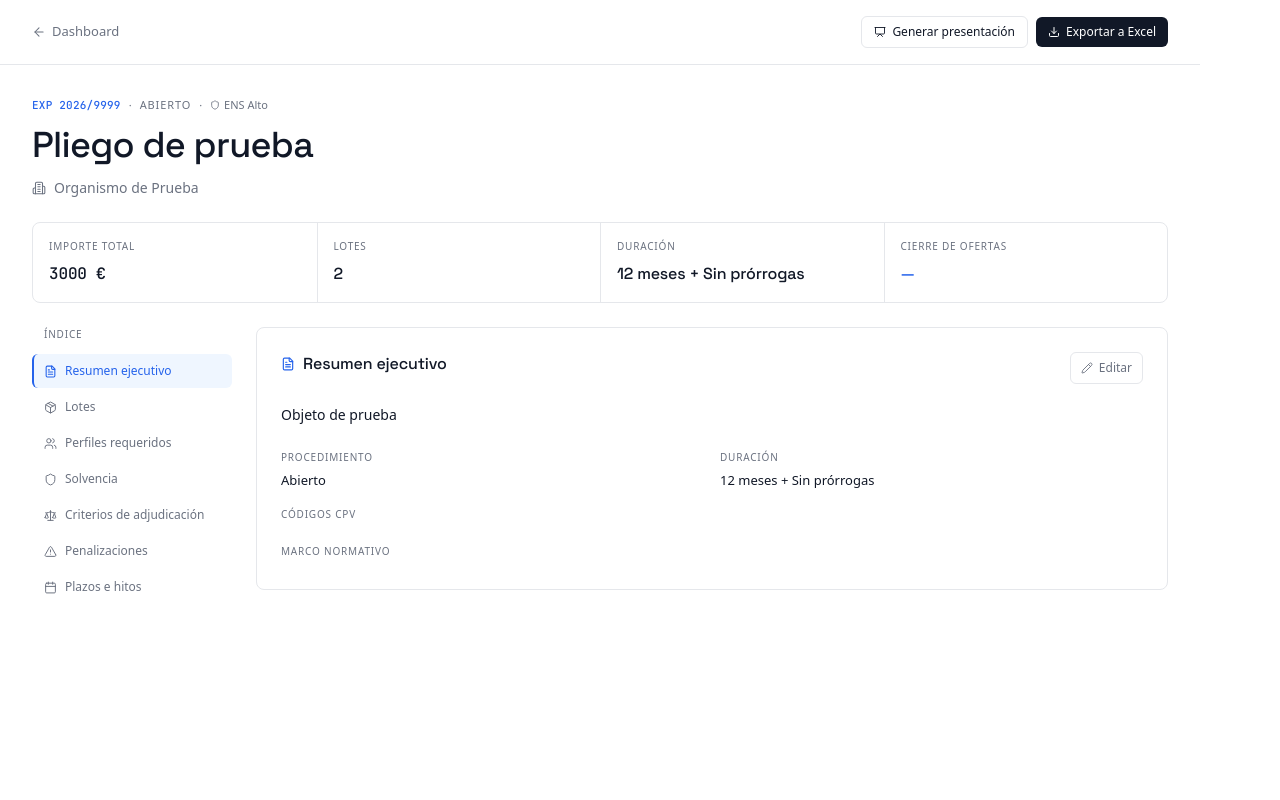
Scenario: Analysis - edición del importe total del pliego (sección Lotes) › si el guardado falla, mantiene el modo edición y muestra el error (no pierde los cambios en silencio)
Click the button "Lotes" at {"x": 132, "y": 407}, box [32,390,232,424]
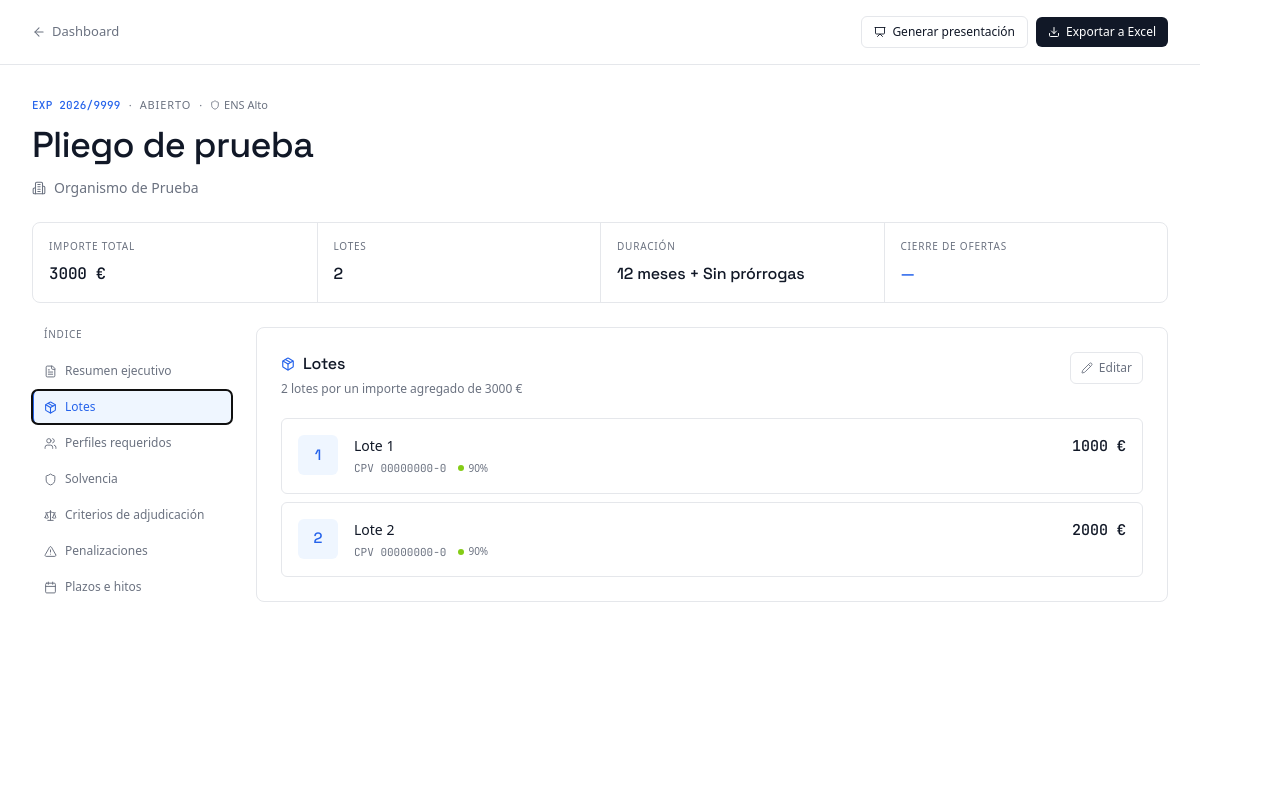
Click the button "Editar" at {"x": 1106, "y": 368}, box [1070,352,1143,384]
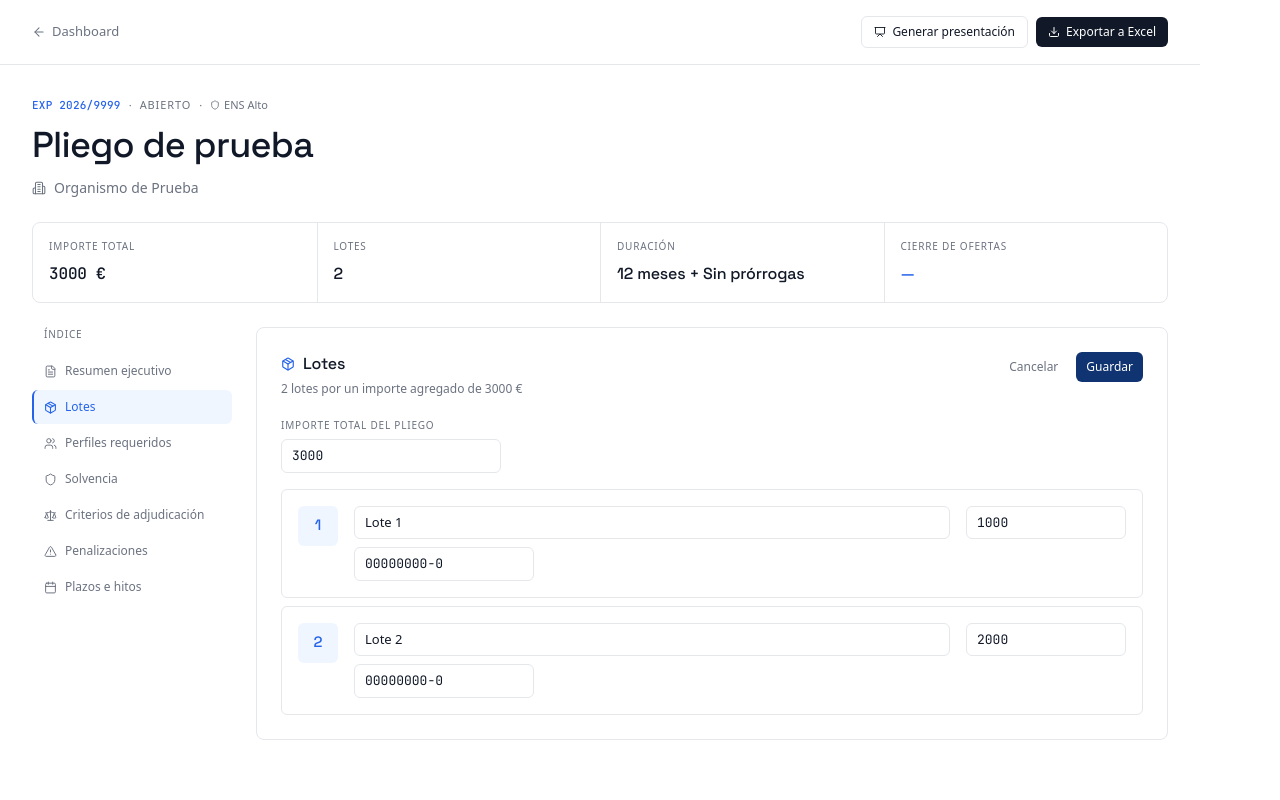
Replace the text in the 1st field showing "Lote 1" with "Lote editado" at {"x": 652, "y": 522}, box [354,506,950,539]
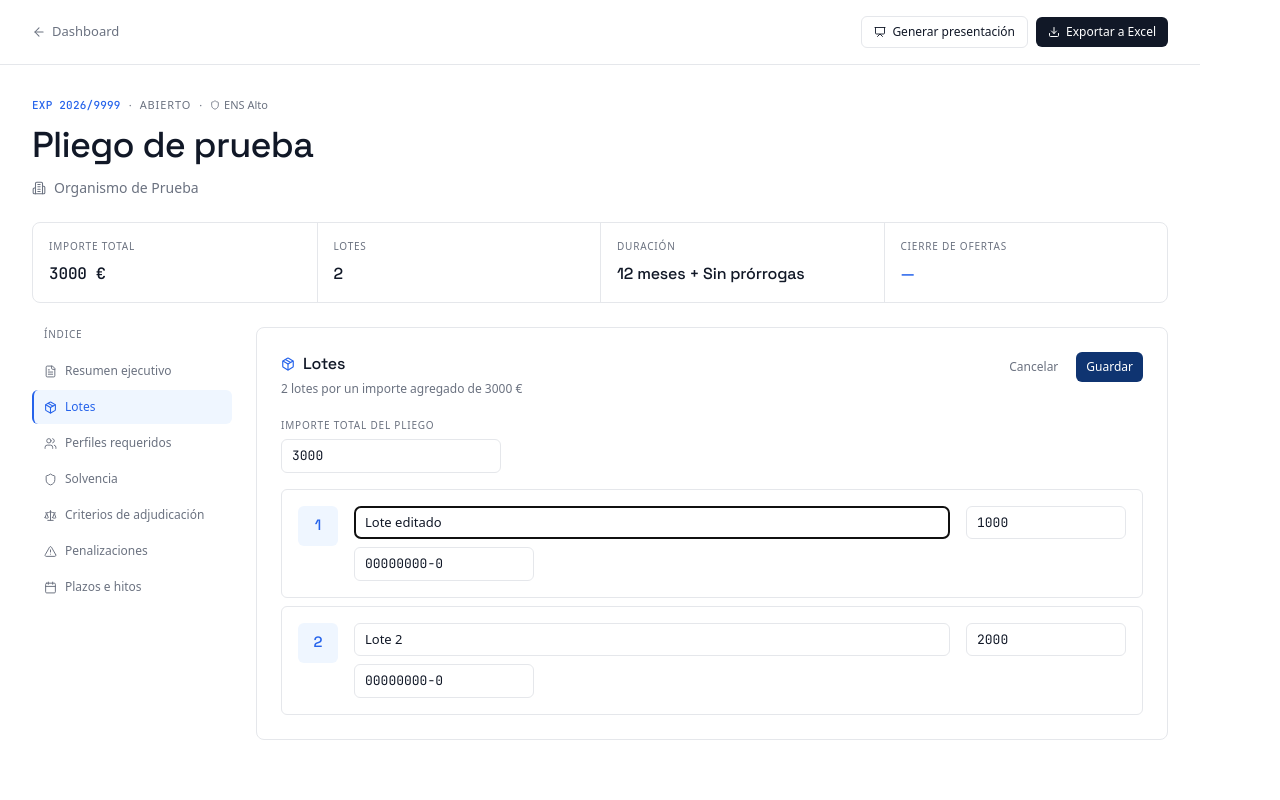
Click the button "Guardar" at {"x": 1110, "y": 367}, box [1076,352,1143,382]
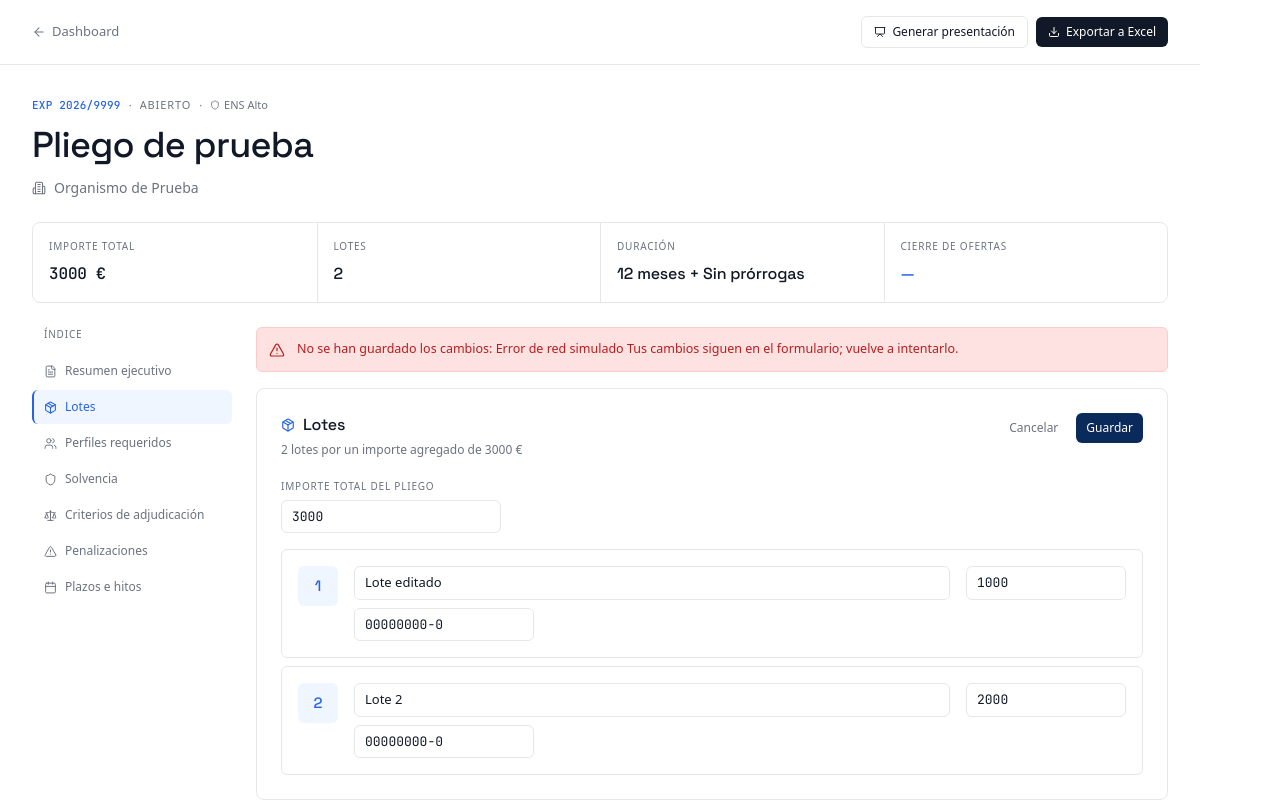
Now the button "Guardar" is shown, box [1076,413,1143,443]
Now the text "No se han guardado los cambios" is shown, box [297,340,496,357]
